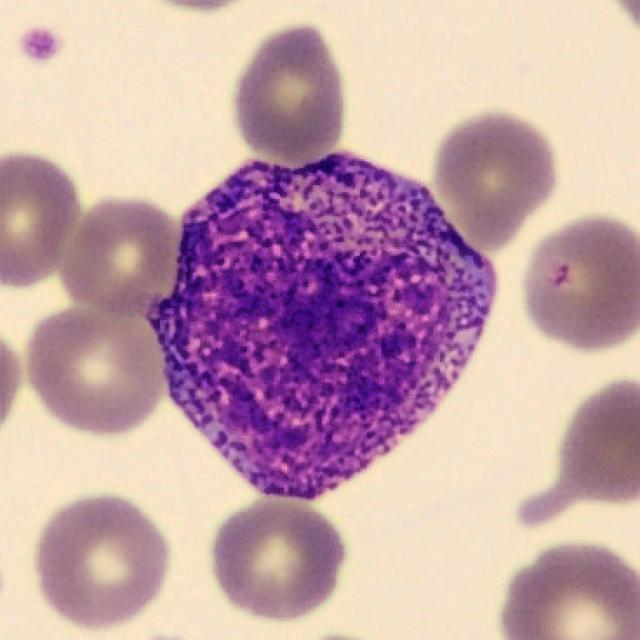Promielocito: (146, 152, 497, 502)
